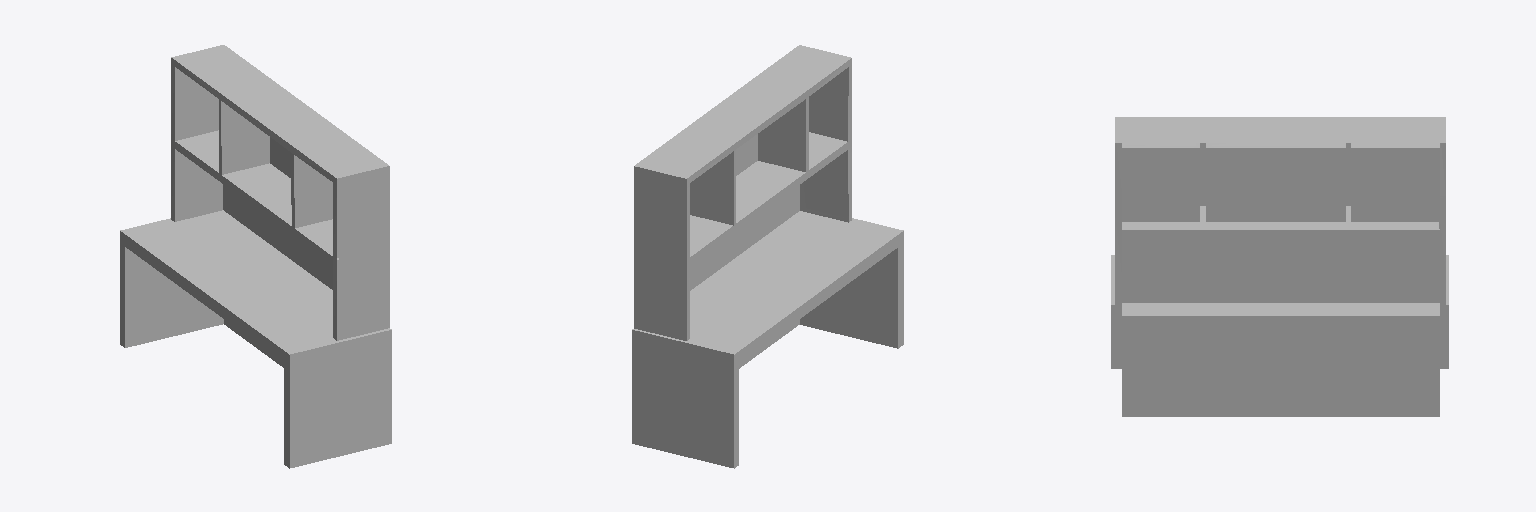
Rendered from escritorio 1.obj.
3 views of the same model, side by side, from view 1: azimuth 30°, elevation 25°; view 2: azimuth 150°, elevation 25°; view 3: azimuth 270°, elevation 25° (orthographic).
Parts seen in each view (by area): view 1: escritorio:Mesh; view 2: escritorio:Mesh; view 3: escritorio:Mesh.
Boxes of the visible parts, <box> form: escritorio:Mesh: <box>120,45,391,468</box>; escritorio:Mesh: <box>632,45,903,468</box>; escritorio:Mesh: <box>1111,117,1448,416</box>.
Bounding box in the file's own units: 6.79 × 17.53 × 19.48.